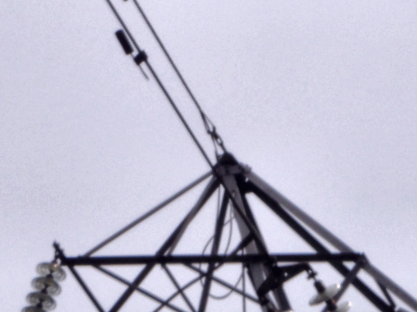damper_defect: (114, 26, 152, 82)
